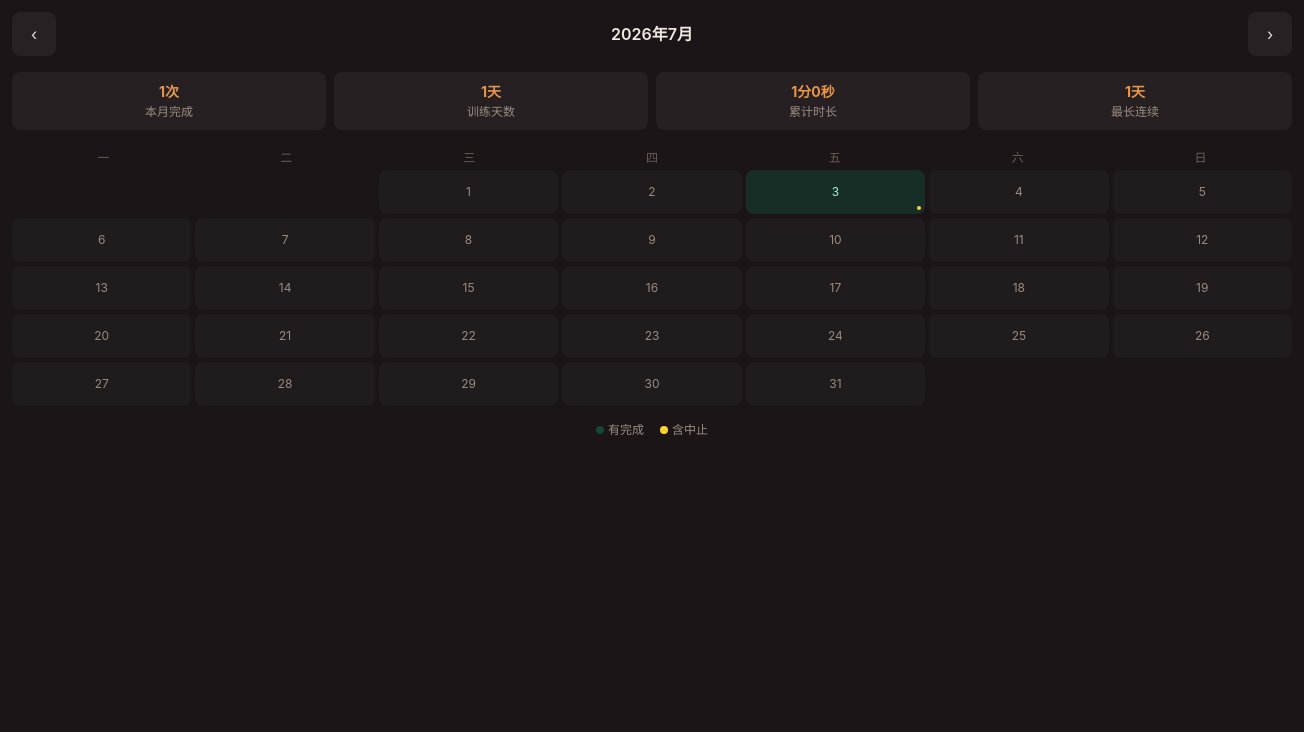
Test: TrainingCalendar › marks dates, summarizes completed records, and lists both statuses
This screenshot has width=1304, height=732.
Expected: the heading "2026年7月" is shown, [611, 22, 693, 46]
Expected: the text "1次" is shown, [159, 83, 179, 100]
Click the button named "7月3日，1次完成，1次中止" at (835, 192), box [746, 170, 925, 214]
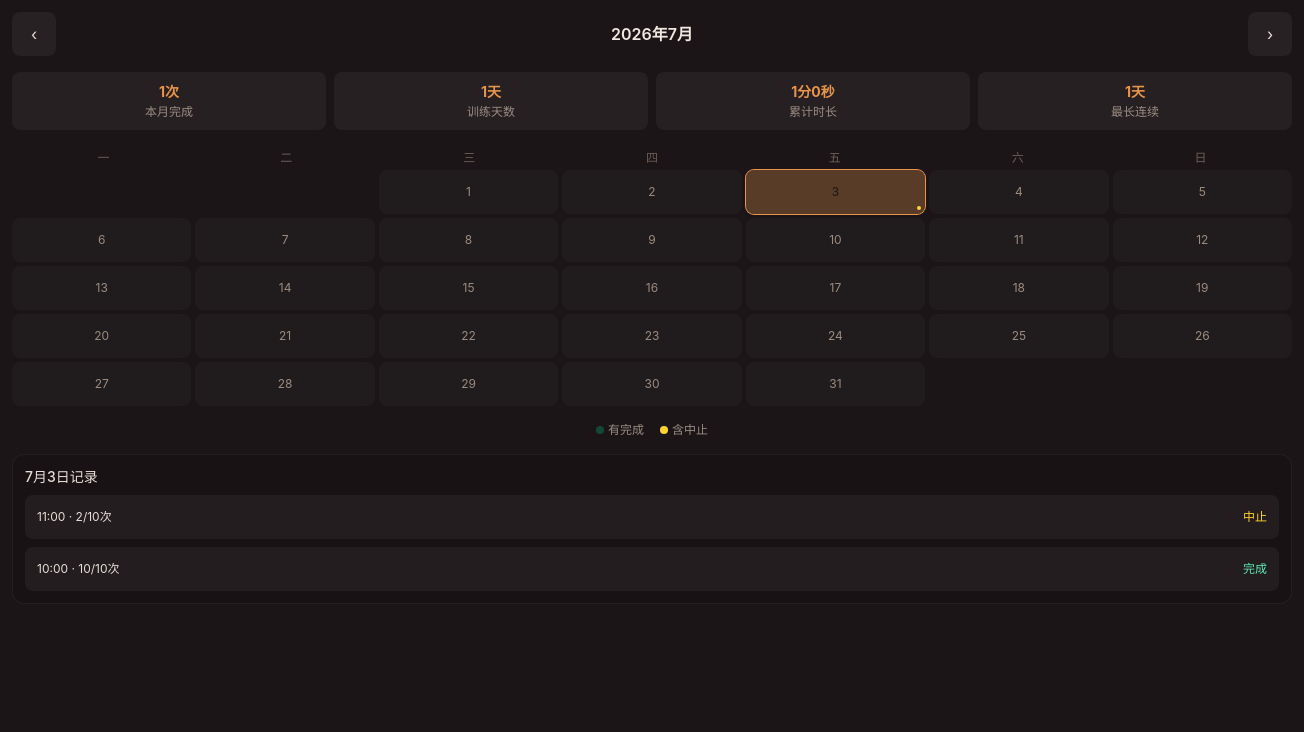
Expected: the text "完成" is shown, [1243, 561, 1267, 577]
Expected: the text "中止" is shown, [1243, 509, 1267, 525]
